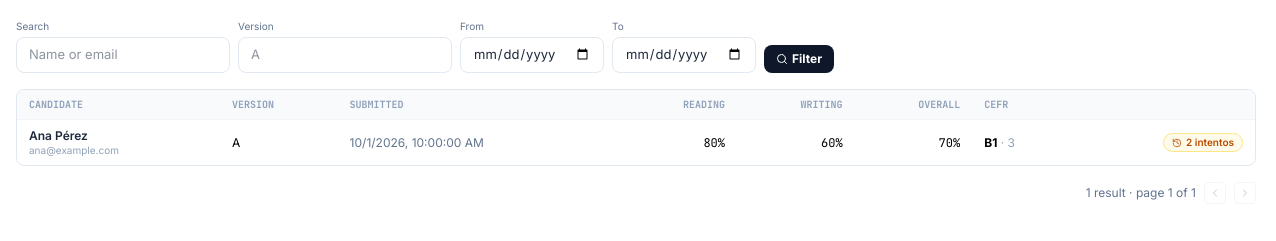
Test: ResultsTab › opens the history drawer from the attempts badge
Step 1. Click the button "2 intentos" → [1203, 143], box x1=1163 y1=133 x2=1243 y2=152
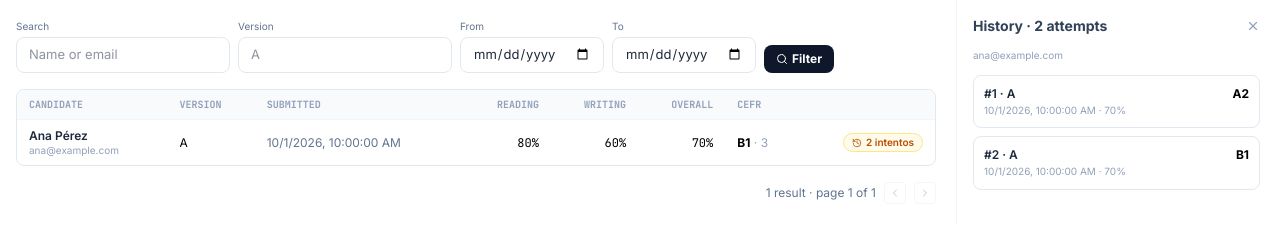
Expected: the element named "Attempt history" shows "#1", x1=956 y1=0 x2=1275 y2=224
Expected: the element named "Attempt history" shows "#2", x1=956 y1=0 x2=1275 y2=224
